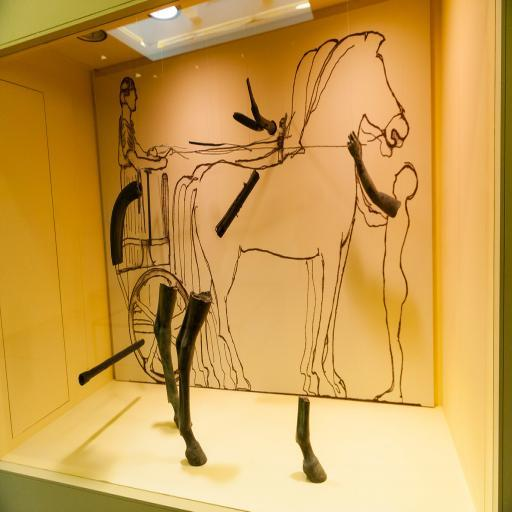Horse: (185, 32, 410, 402)
